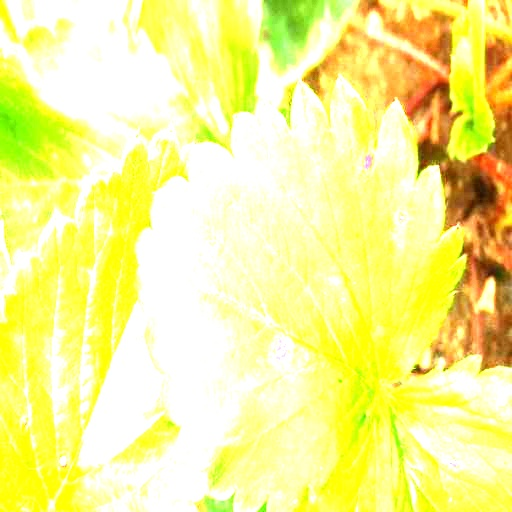Leaf Spot: (133, 72, 469, 511), (0, 122, 209, 511), (0, 7, 216, 268), (125, 0, 264, 155), (383, 354, 511, 511)
